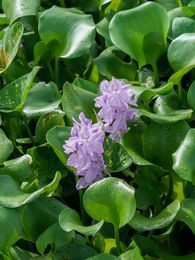water_hyacinth: (1, 1, 194, 258)
